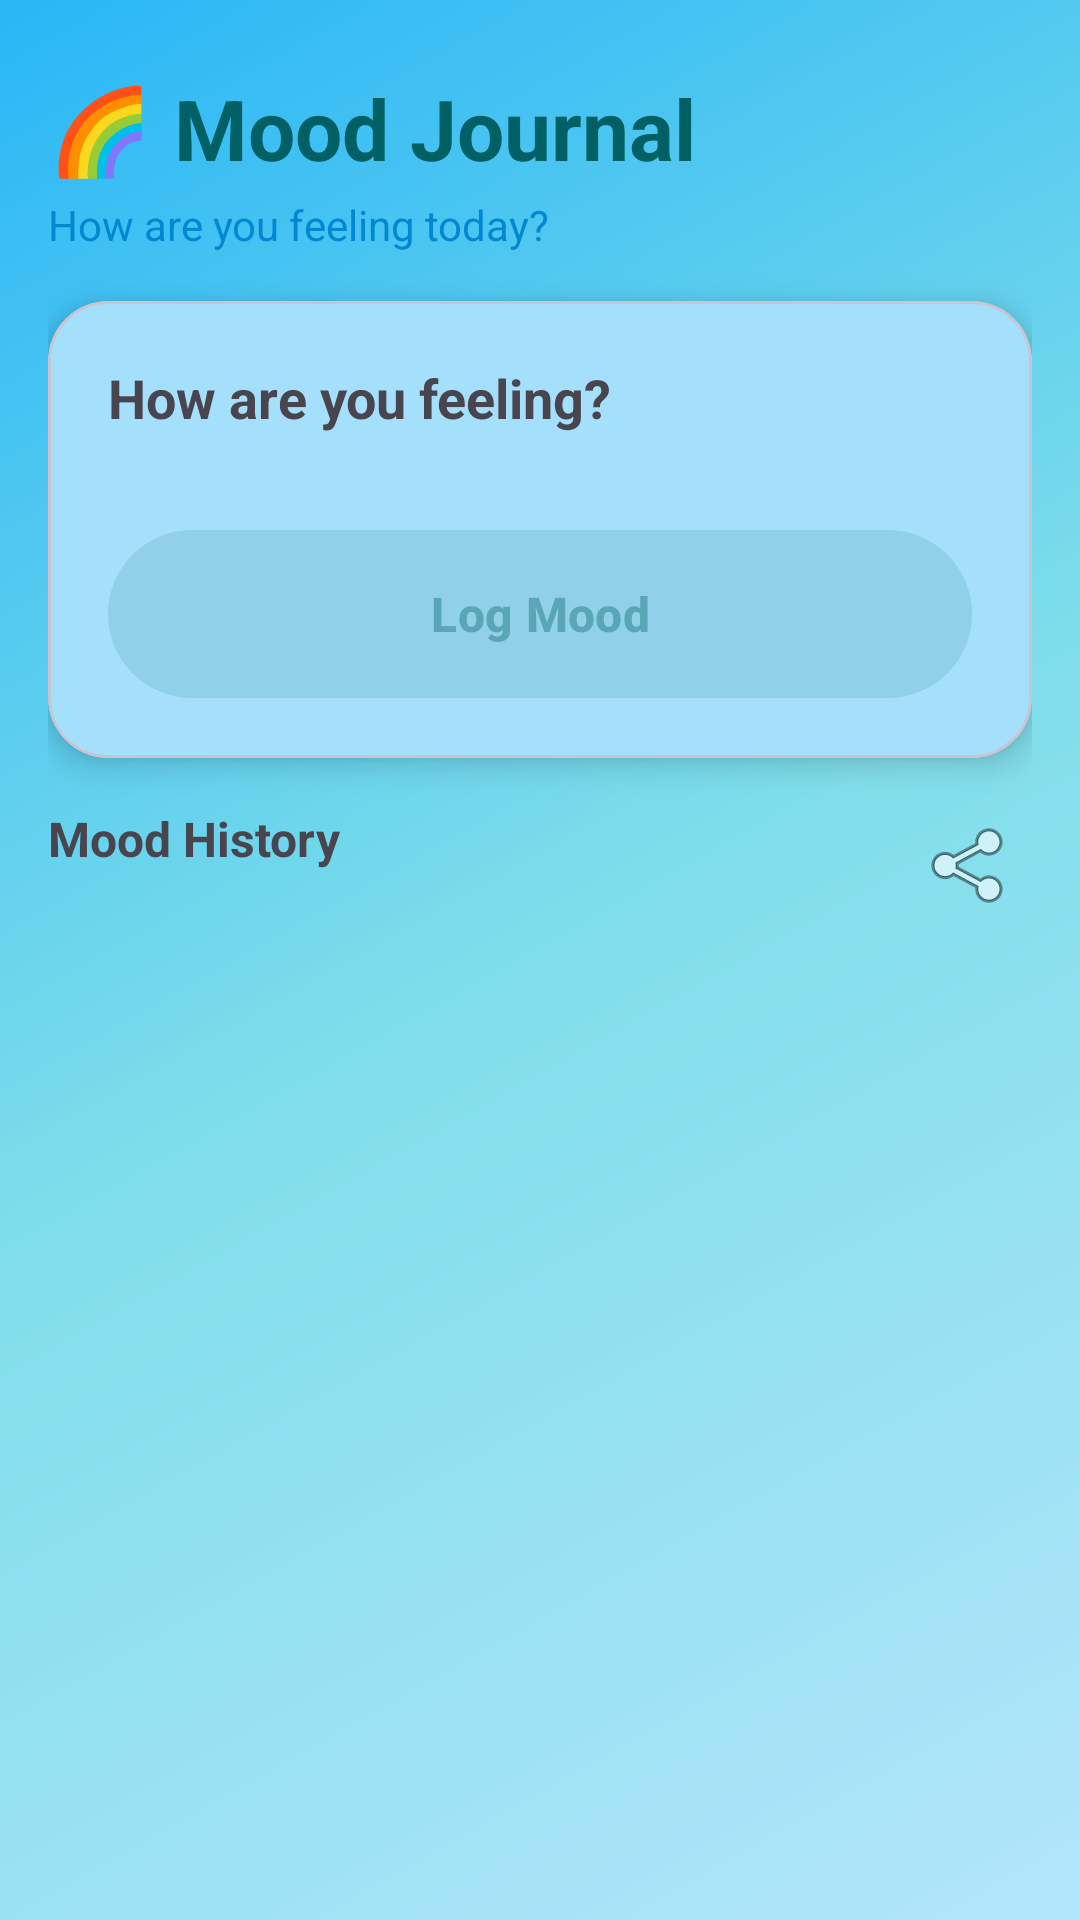

Named icons in this screenshot (1080w x 1920h) and their centers, point (x, y):
Share mood summary: point (967, 865)
